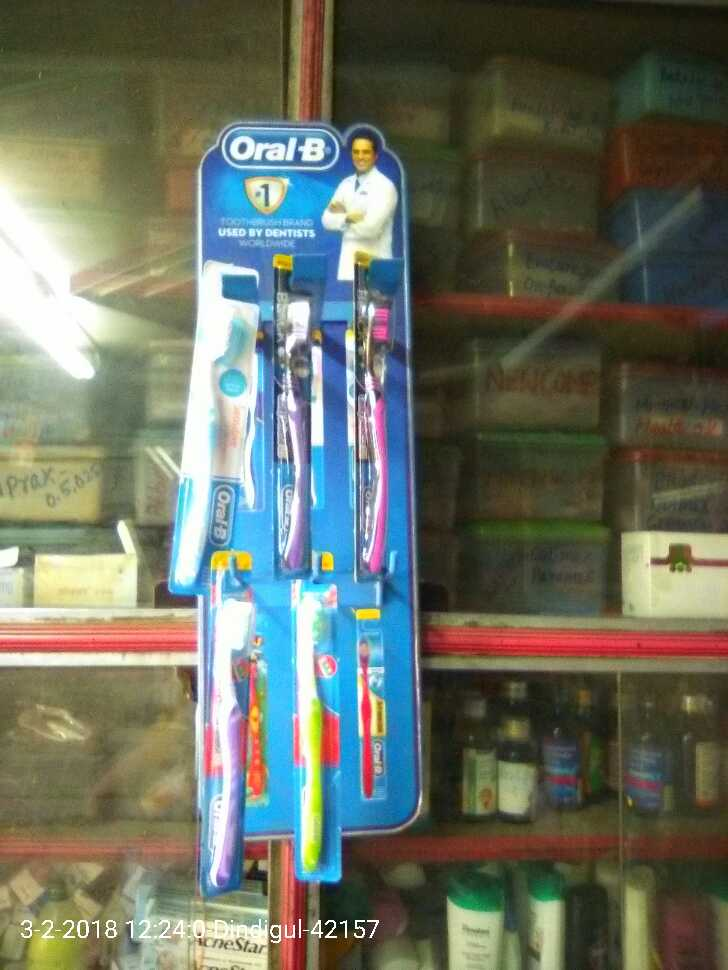oralb: (169, 262, 266, 598), (292, 551, 346, 883), (208, 550, 258, 894), (270, 254, 314, 578), (351, 247, 390, 583)
